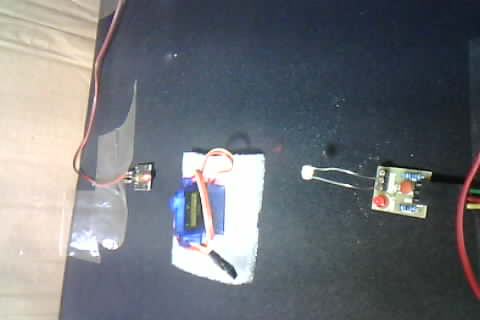motor: (163, 132, 269, 279)
